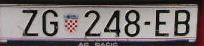-: (143, 21, 150, 25)
2: (84, 10, 100, 36)
4: (104, 10, 120, 37)
8: (125, 9, 139, 37)
B: (175, 10, 190, 36)
E: (155, 9, 169, 36)
G: (42, 10, 59, 36)
Z: (21, 10, 38, 36)
